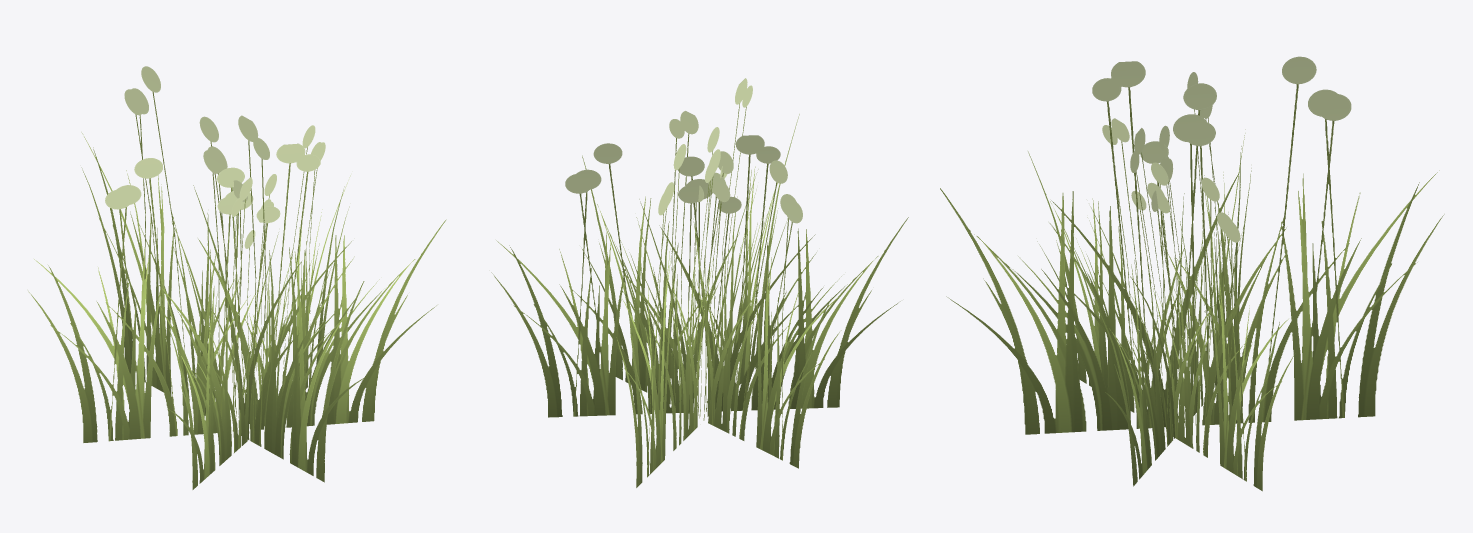
File: cotton_grass_1.glb
3 renders of one model, left to right at view 1: azimuth 30°, elevation 25°; view 2: azimuth 150°, elevation 25°; view 3: azimuth 270°, elevation 25°, orthographic. The views are drawn at different scales.
Parts seen in each view (by area): view 1: cotton_grass_1; view 2: cotton_grass_1; view 3: cotton_grass_1.
Boxes of the visible parts, left/top/right/bottom form: cotton_grass_1: left=28, top=66, right=446, bottom=489; cotton_grass_1: left=491, top=78, right=908, bottom=487; cotton_grass_1: left=940, top=56, right=1444, bottom=491.
Bounding box in the file's own units: 0.5995 × 0.5156 × 0.6774.
1 material, 1 textured.
